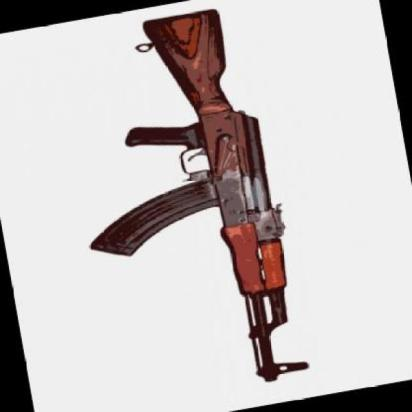Gun: (44, 0, 333, 403)
